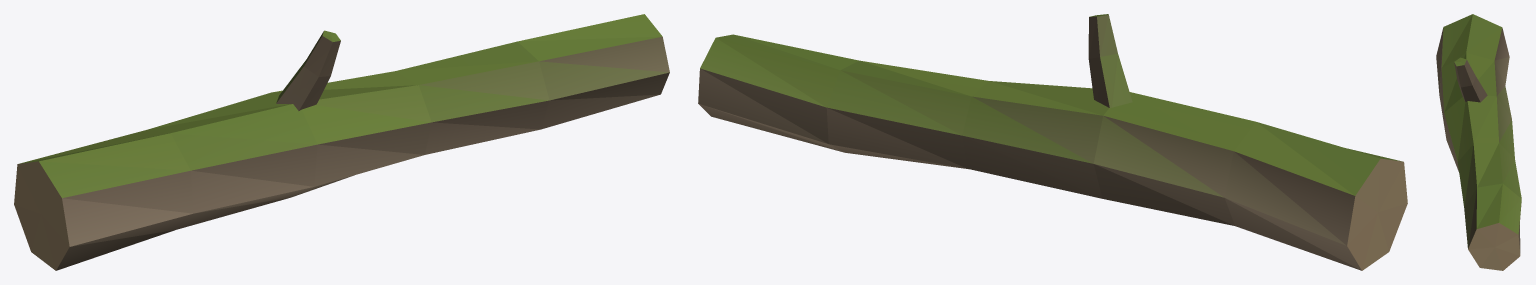
The model's file is log_mossy.glb.
3 renders of one model, left to right at view 1: azimuth 30°, elevation 25°; view 2: azimuth 150°, elevation 25°; view 3: azimuth 270°, elevation 25°, orthographic. The views are drawn at different scales.
Visible parts, largest first — view 1: log_mossy_solid; view 2: log_mossy_solid; view 3: log_mossy_solid.
Part boxes in pixels (<box>): log_mossy_solid: <box>14,14,669,270</box>; log_mossy_solid: <box>698,14,1407,270</box>; log_mossy_solid: <box>1436,14,1521,270</box>.
Size of the model in its own units: 4.52 by 1.16 by 0.8348.
